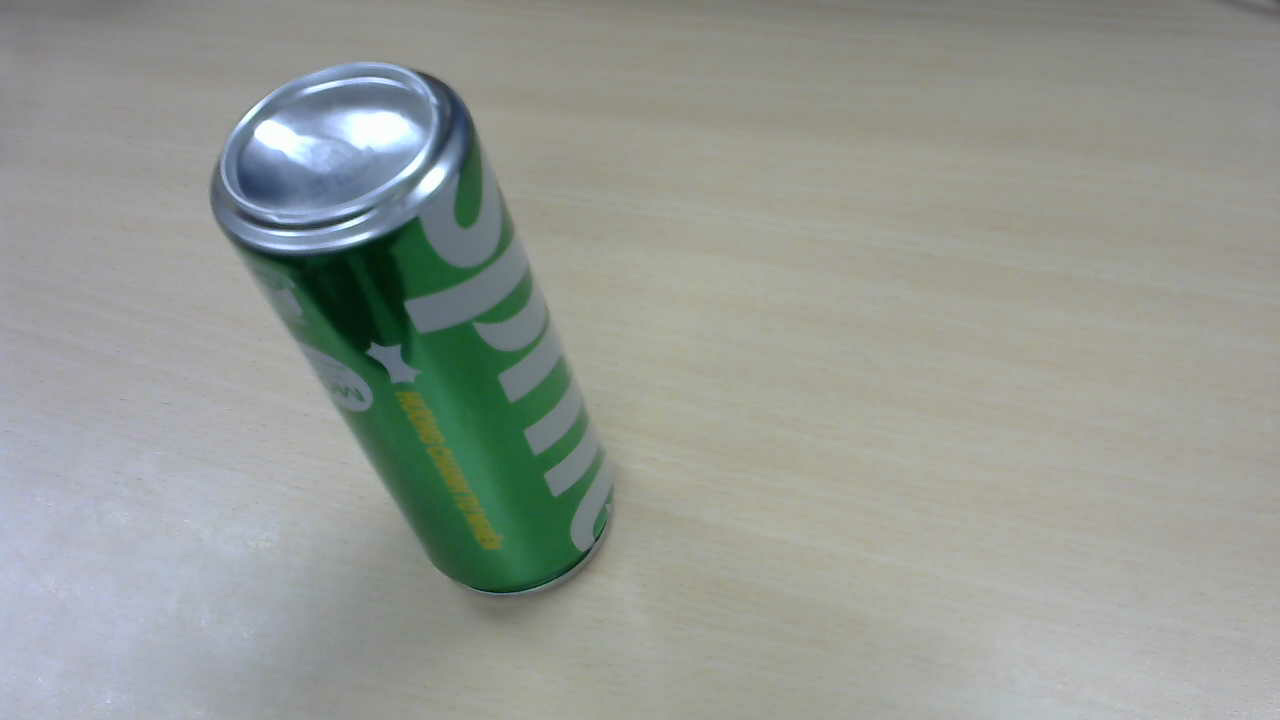Sprite: (223, 71, 609, 592)
